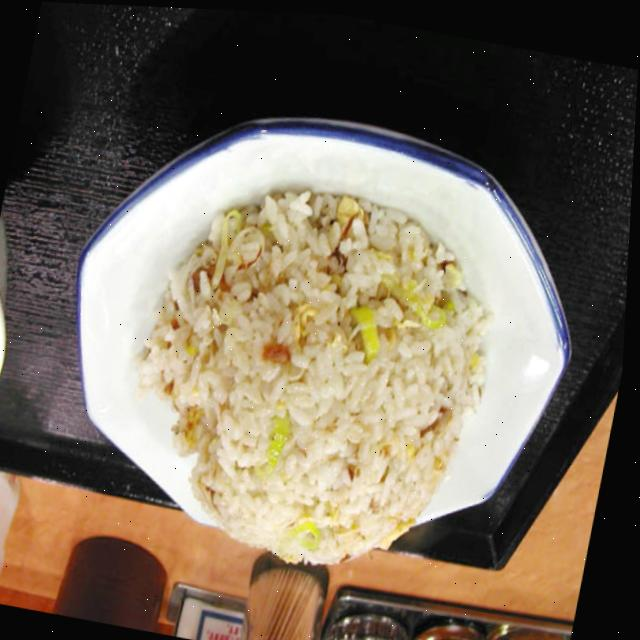米饭主食: (29, 75, 609, 603)
